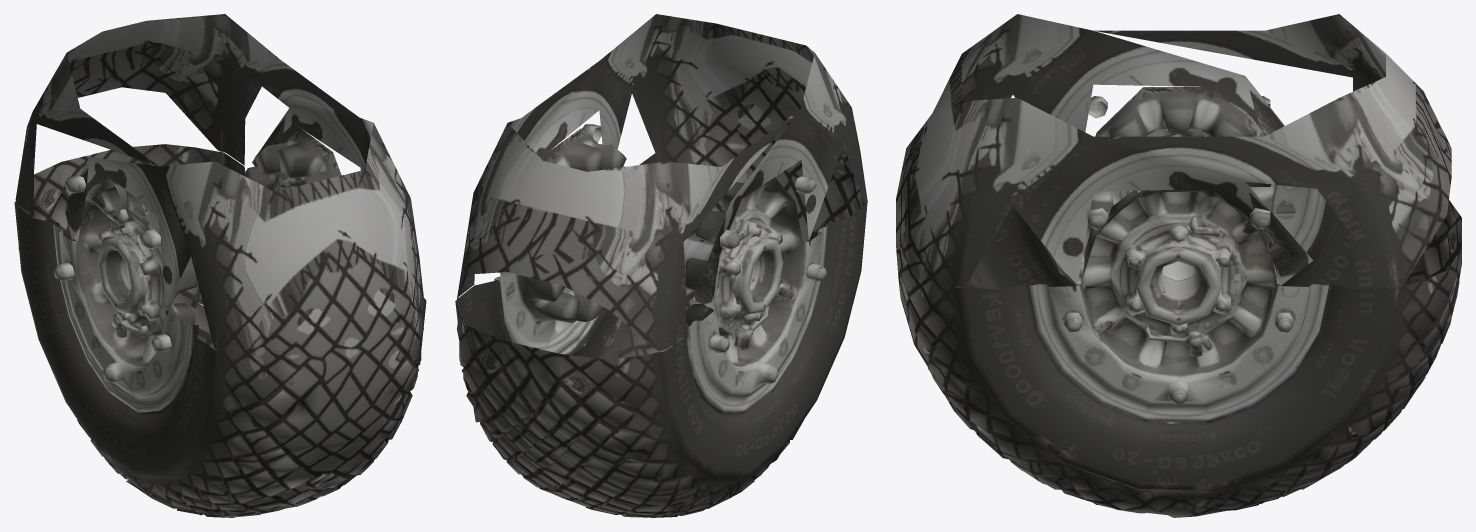
The model's file is mainwheel_remesh.glb.
3 renders of one model, left to right at view 1: azimuth 30°, elevation 25°; view 2: azimuth 150°, elevation 25°; view 3: azimuth 270°, elevation 25°, orthographic. The views are drawn at different scales.
Parts seen in each view (by area): view 1: tripo_node_b25b9d89-5394-40f8-ae3e-c79ff; view 2: tripo_node_b25b9d89-5394-40f8-ae3e-c79ff; view 3: tripo_node_b25b9d89-5394-40f8-ae3e-c79ff.
Boxes of the visible parts, x1=… form: tripo_node_b25b9d89-5394-40f8-ae3e-c79ff: x1=14, y1=14, x2=426, y2=517; tripo_node_b25b9d89-5394-40f8-ae3e-c79ff: x1=455, y1=14, x2=867, y2=517; tripo_node_b25b9d89-5394-40f8-ae3e-c79ff: x1=896, y1=14, x2=1461, y2=517.
Bounding box in the file's own units: 0.4951 × 0.8376 × 0.9765.
1 material, 1 textured.
